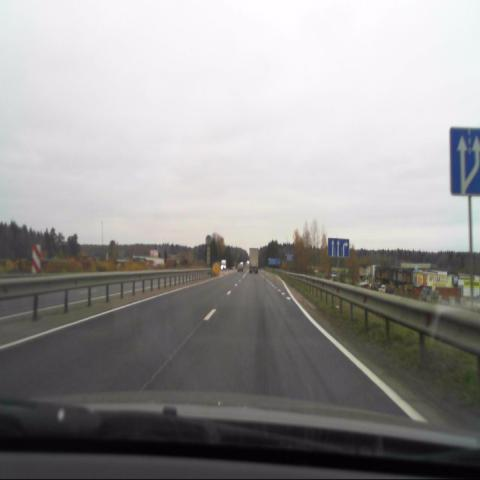5_15_1: (327, 237, 350, 260)
